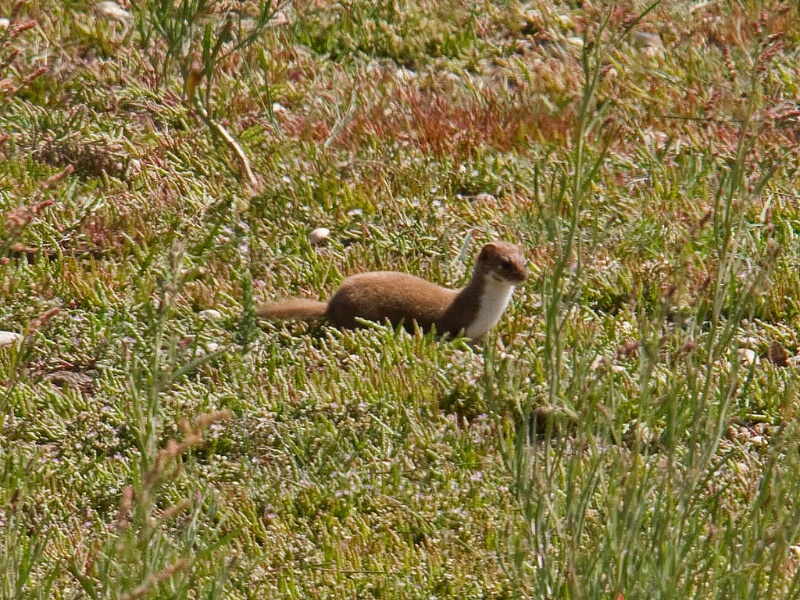minkish: (251, 241, 529, 339)
